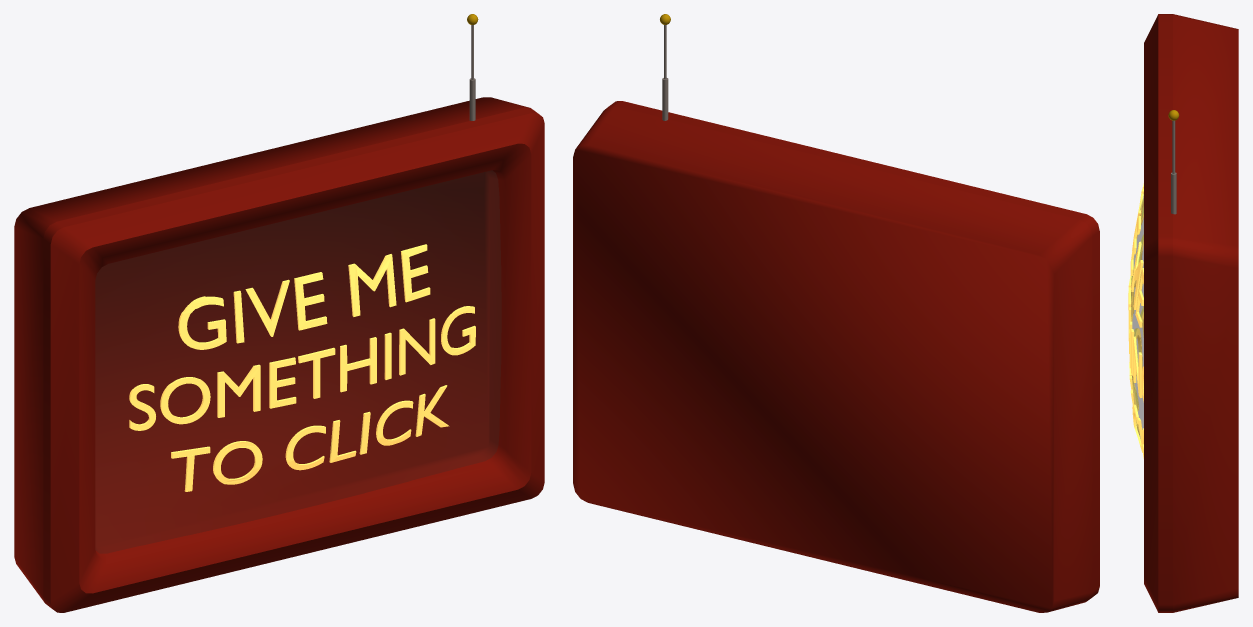
3 views of the same model, side by side, from view 1: azimuth 30°, elevation 25°; view 2: azimuth 150°, elevation 25°; view 3: azimuth 270°, elevation 25° (orthographic). The views are drawn at different scales.
Visible parts, largest first — view 1: Plane.009; view 2: Plane.009; view 3: Plane.009.
Part boxes in pixels (bbox=[...]): Plane.009: bbox=[14, 14, 544, 612]; Plane.009: bbox=[573, 14, 1099, 612]; Plane.009: bbox=[1128, 14, 1238, 612].
Size of the model in its own units: 2.32 by 2.2 by 0.4607.
